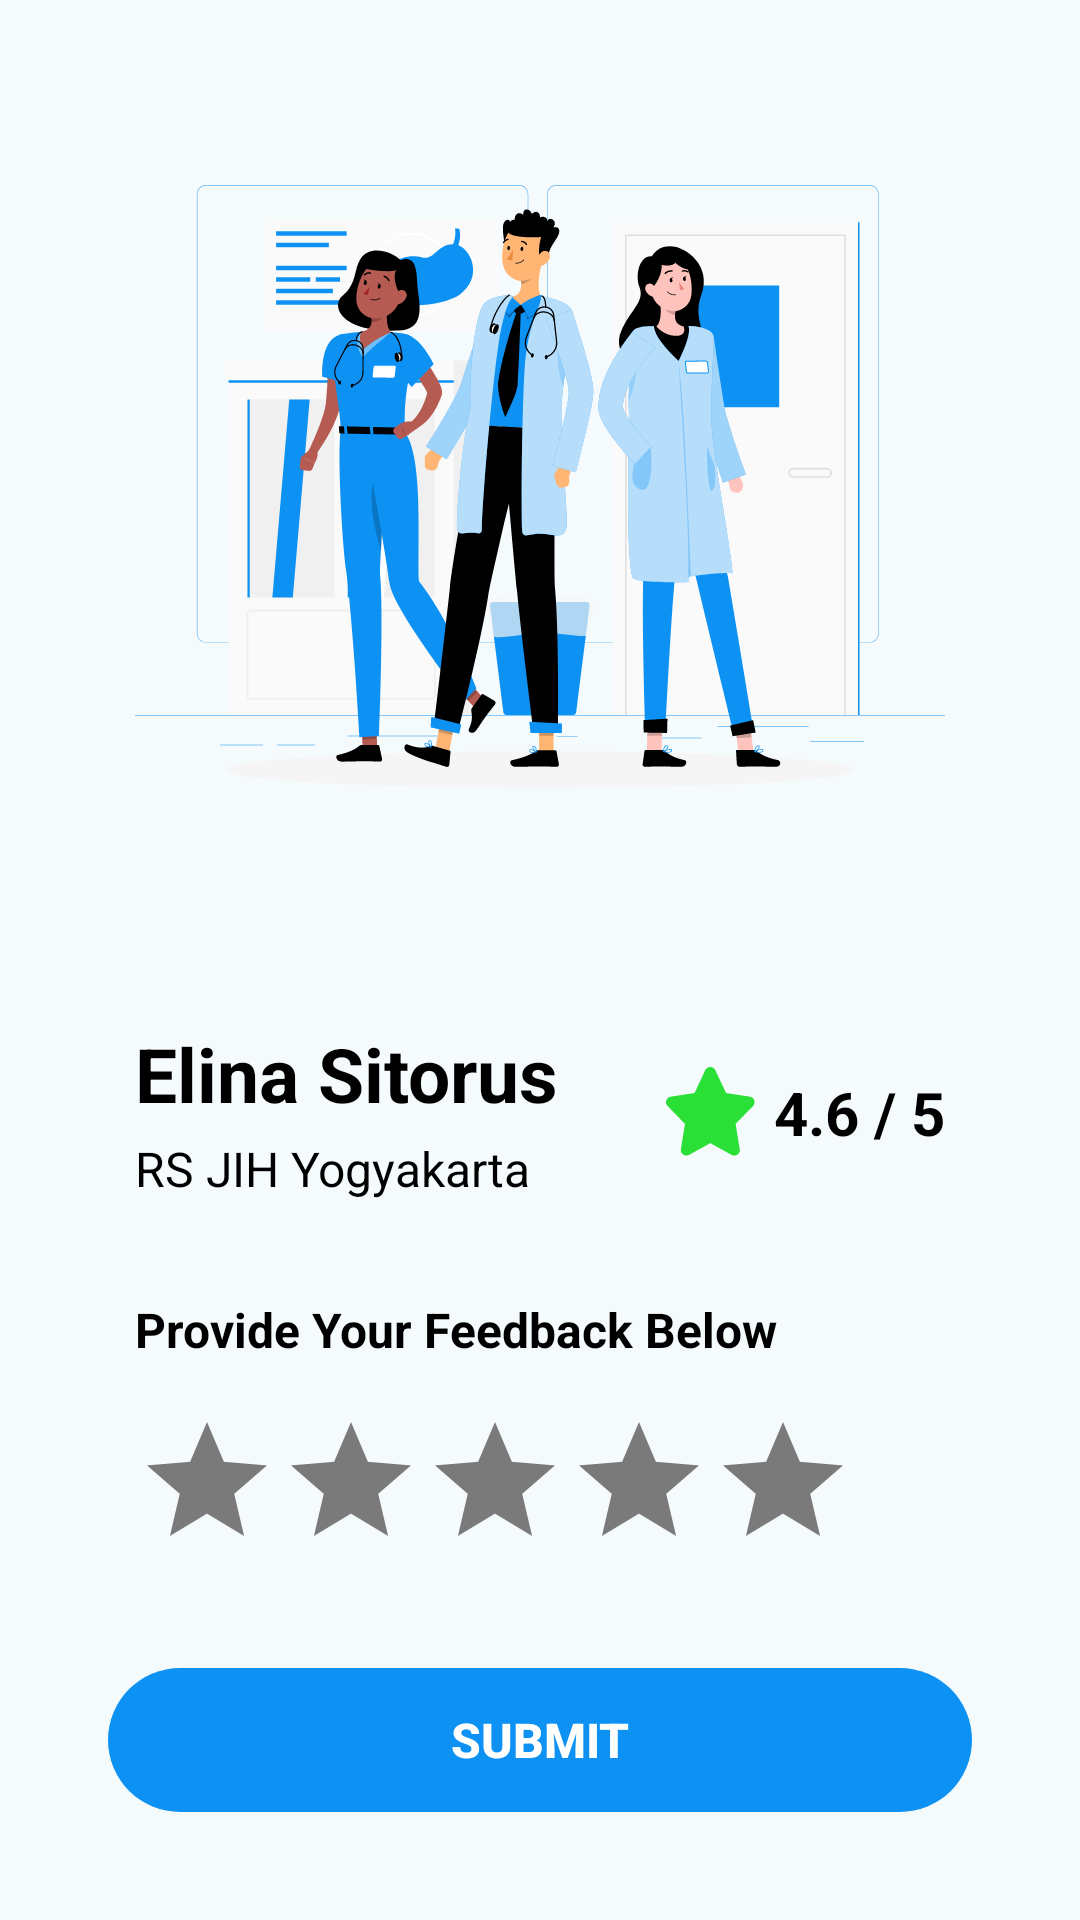

Screen size 1080px x 1920px. Icon name, then its center in pixels as [x,y]:
star: [710,1111]
